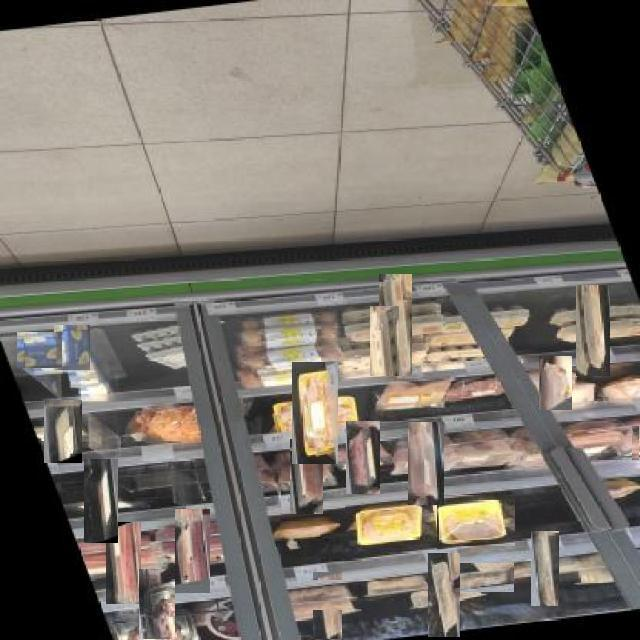Egg: (292, 361, 338, 464), (424, 494, 515, 546), (346, 501, 437, 553), (117, 402, 208, 450), (379, 273, 412, 380), (369, 376, 458, 415), (577, 284, 610, 376), (265, 511, 349, 547), (408, 421, 444, 505), (174, 509, 210, 593), (105, 522, 141, 604), (84, 459, 118, 543), (369, 306, 399, 400), (428, 554, 460, 637), (140, 568, 175, 640), (451, 439, 525, 473), (346, 420, 380, 494), (289, 440, 323, 514), (558, 427, 632, 461), (44, 399, 82, 463), (356, 571, 433, 601), (437, 562, 514, 592), (283, 580, 360, 610), (531, 530, 559, 606), (312, 572, 342, 640), (540, 356, 572, 410), (16, 331, 62, 368), (53, 325, 90, 370), (610, 425, 639, 460)
